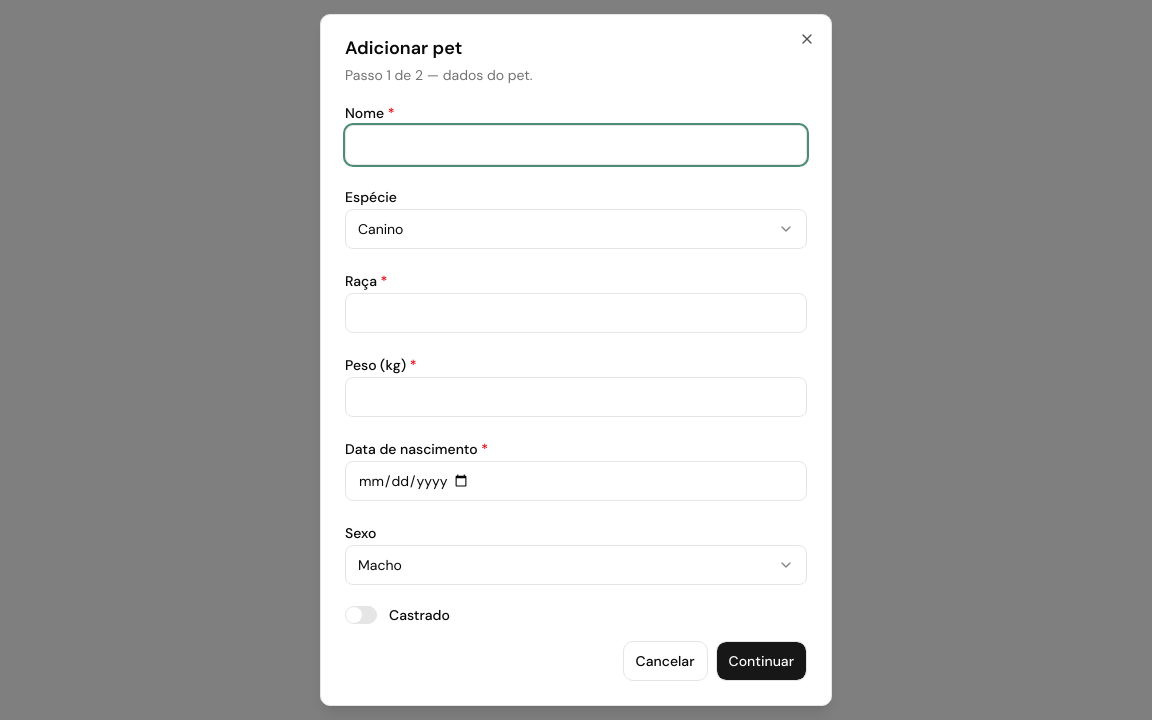
Scenario: AddPetToClientDialog — Passo 2 submit gating › should keep "Confirmar adição" disabled until the checkbox is checked
Type "Rex" into the field labelled "Nome *" at [576, 145], box [345,125,807,165]
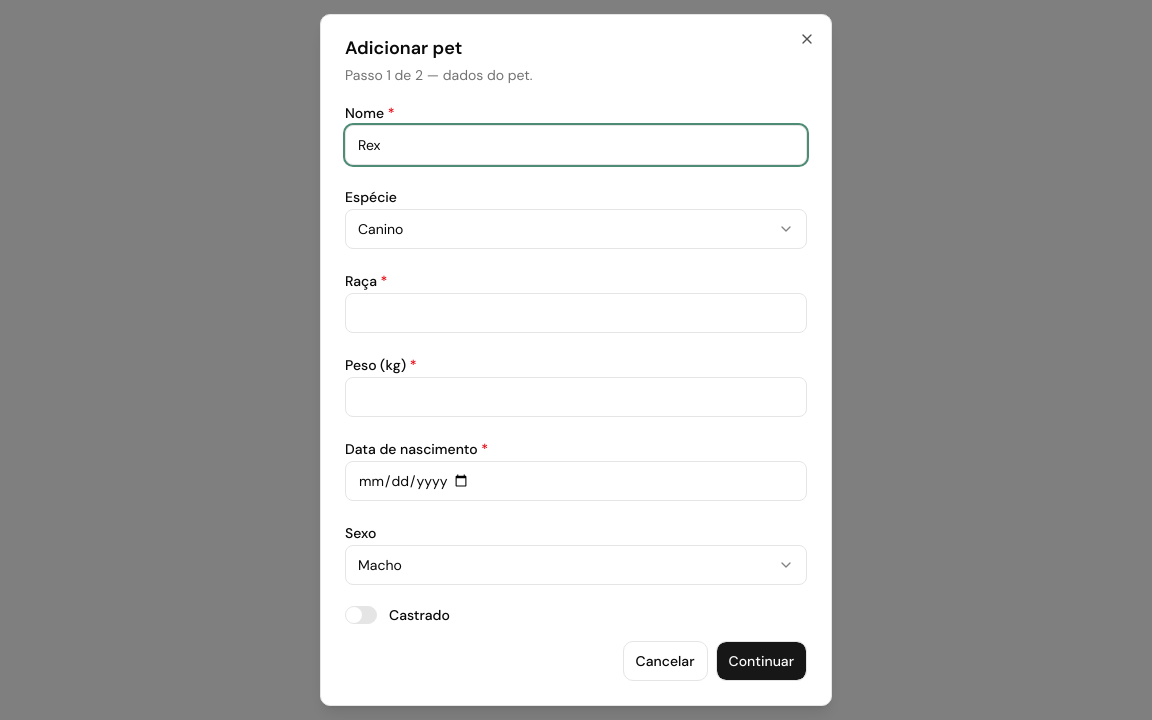
Type "Golden" into the field labelled "Raça *" at [576, 313], box [345,293,807,333]
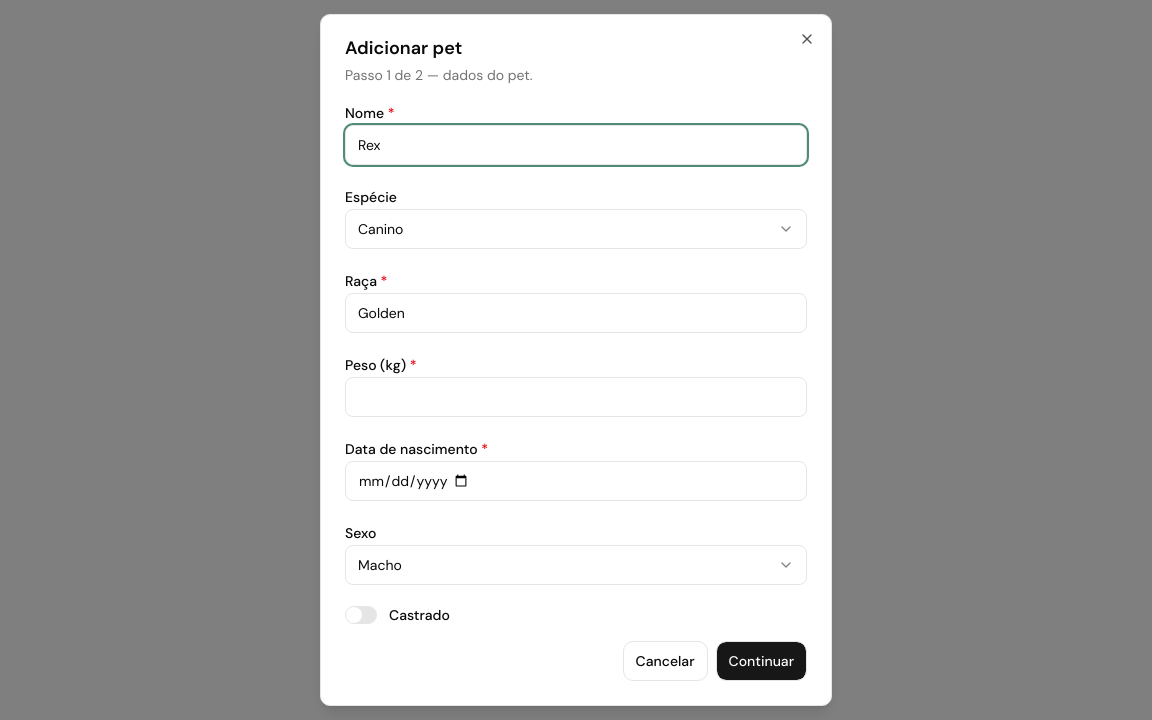
Type "25" into the number field labelled "Peso (kg) *" at [576, 397], box [345,377,807,417]
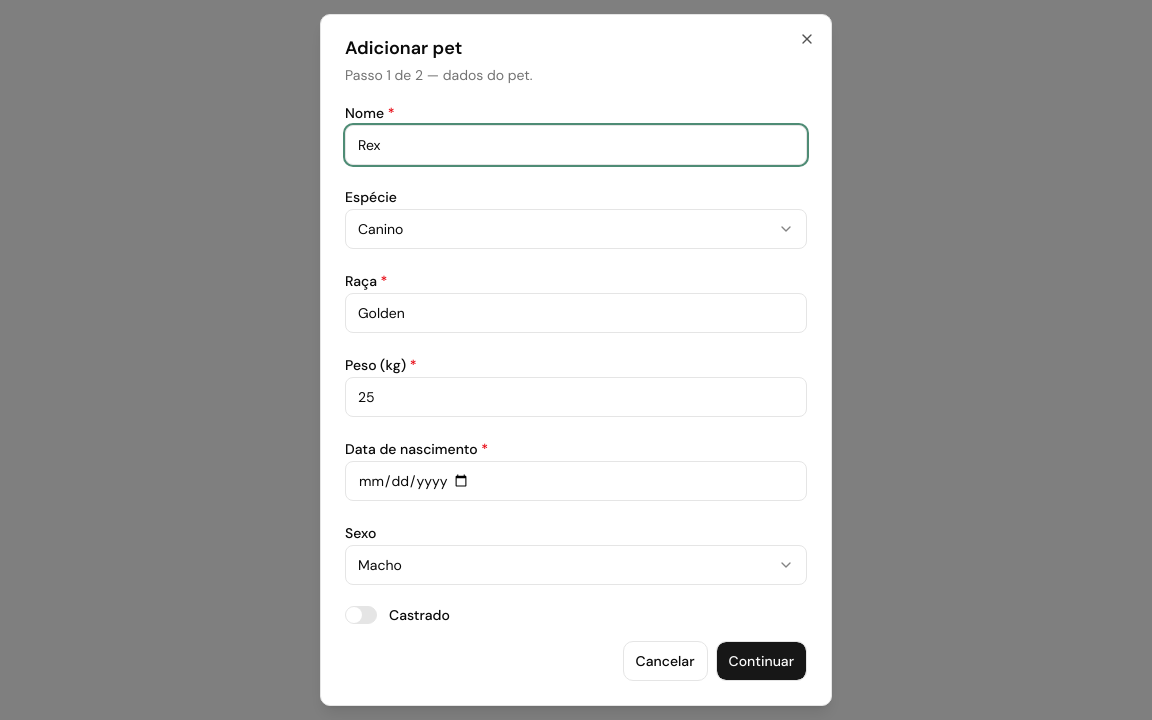
Type "2021-01-01" into the date field labelled "Data de nascimento *" at [576, 481], box [345,461,807,501]
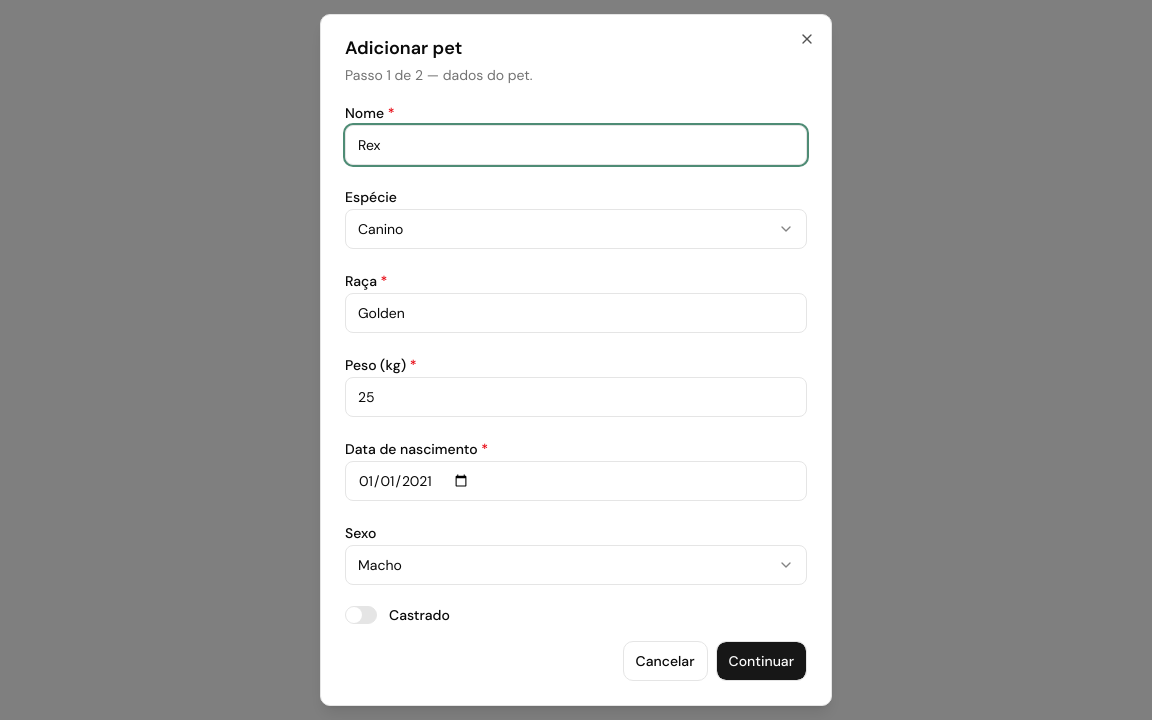
Submit the form with id "add-pet-form", box [345,101,807,625]
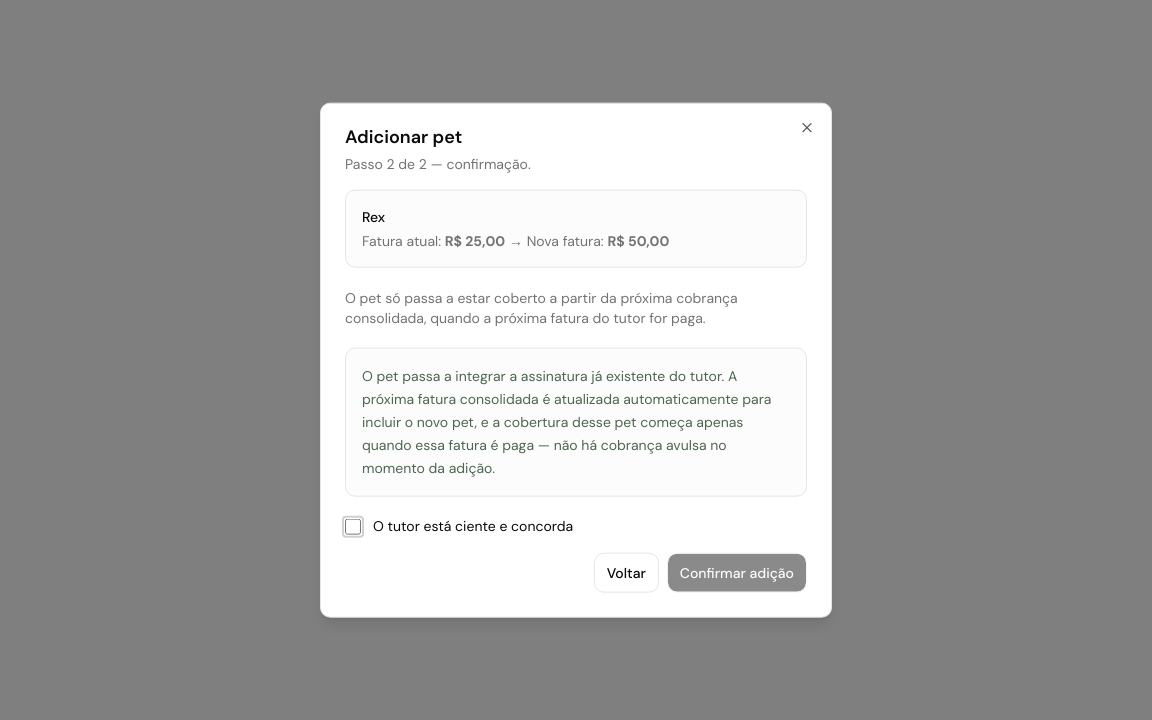
Check: the button "Confirmar adição" is disabled, box [667,552,807,592]
Click the checkbox labelled "O tutor está ciente e concorda" at [353, 527], box [345,519,361,535]
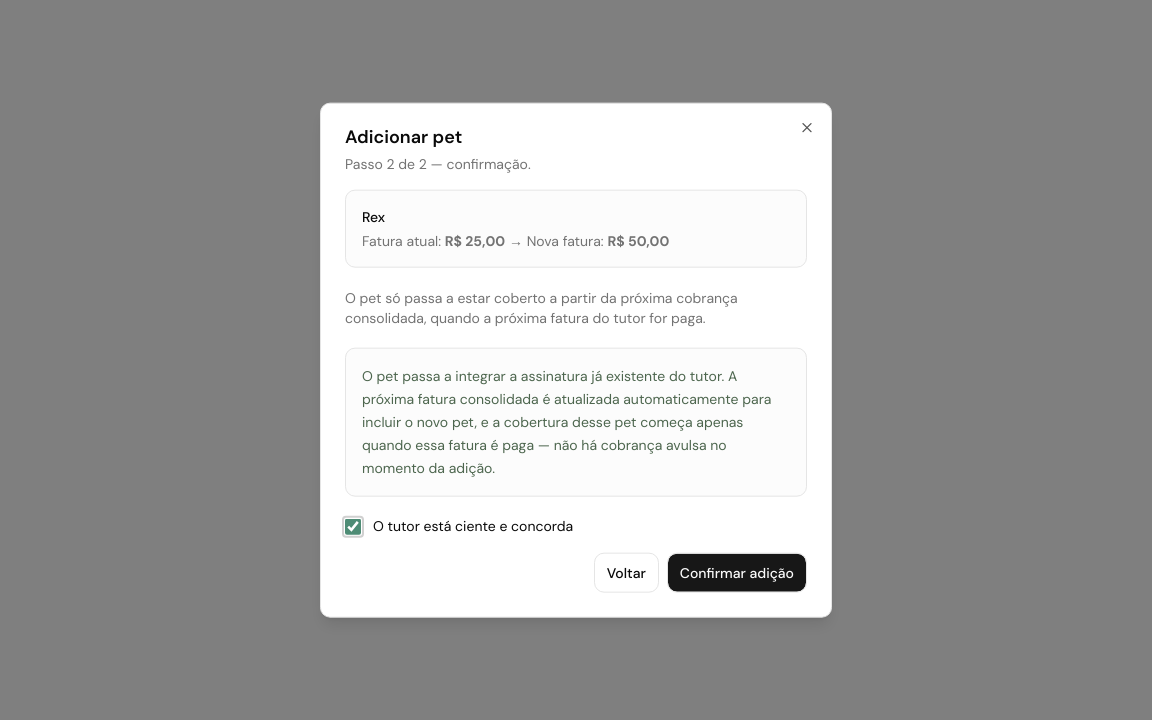
Check: the button "Confirmar adição" is enabled, box [667,552,807,592]
